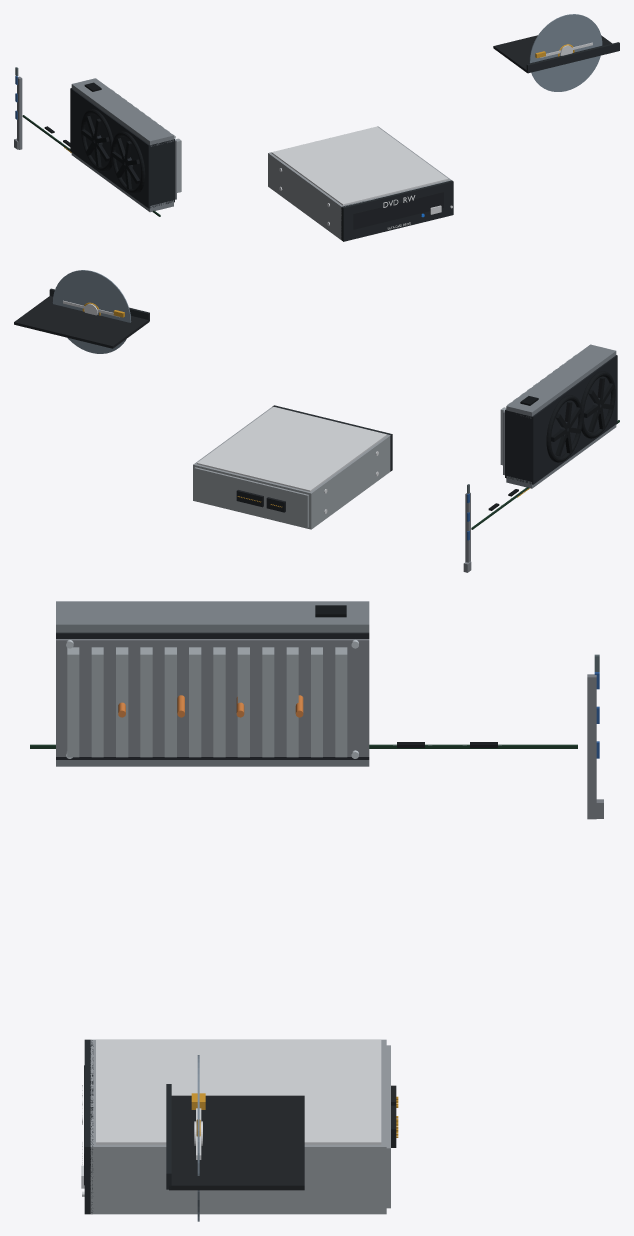
File: gpu.glb
The picture shows the model from 3 angles, top to bottom: view 1: azimuth 30°, elevation 25°; view 2: azimuth 150°, elevation 25°; view 3: azimuth 270°, elevation 25°; orthographic projection. The views are drawn at different scales.
Visible parts, largest first — view 1: OPTICAL_TopCover, GPU_Shroud_Main.001, OPTICAL_Disc, OPTICAL_Enclosure, OPTICAL_FrontBezel, GPU_Shroud_Upper.001, OPTICAL_TraySlot, OPTICAL_TrayBase, OPTICAL_TrayLip, GPU_Fan_1_Frame.001, GPU_Fan_2_Frame.001, GPU_Shroud_Lower.001 (+1 smaller); view 2: OPTICAL_TopCover, GPU_Shroud_Main.001, OPTICAL_Enclosure, OPTICAL_RearPanel, OPTICAL_TrayBase, OPTICAL_Disc, GPU_Shroud_Upper.001, GPU_Fan_2_Frame.001, GPU_Fan_1_Frame.001, GPU_Shroud_Lower.001; view 3: OPTICAL_TopCover, GPU_Backplate.001, OPTICAL_Enclosure, OPTICAL_TrayBase, GPU_Shroud_Upper.001, GPU_Shroud_Main.001, GPU_Shroud_Lower.001, GPU_IOBracket.001, GPU_Heatsink_Fin_04.001, GPU_Heatsink_Fin_07.001, GPU_Heatsink_Fin_02.001, GPU_Heatsink_Fin_05.001 (+10 smaller).
Boxes of the visible parts, x1=… form: OPTICAL_TopCover: x1=271, y1=126, x2=448, y2=205; GPU_Shroud_Main.001: x1=70, y1=88, x2=174, y2=208; OPTICAL_Disc: x1=529, y1=14, x2=602, y2=91; OPTICAL_Enclosure: x1=268, y1=126, x2=451, y2=239; OPTICAL_FrontBezel: x1=341, y1=180, x2=453, y2=241; GPU_Shroud_Upper.001: x1=71, y1=78, x2=173, y2=146; OPTICAL_TraySlot: x1=353, y1=192, x2=443, y2=229; OPTICAL_TrayBase: x1=493, y1=35, x2=612, y2=72; OPTICAL_TrayLip: x1=526, y1=42, x2=619, y2=73; GPU_Fan_1_Frame.001: x1=111, y1=131, x2=145, y2=194; GPU_Fan_2_Frame.001: x1=81, y1=109, x2=113, y2=171; GPU_Shroud_Lower.001: x1=71, y1=152, x2=173, y2=212; OPTICAL_TopCover: x1=197, y1=406, x2=386, y2=491; GPU_Shroud_Main.001: x1=505, y1=355, x2=617, y2=484; OPTICAL_Enclosure: x1=193, y1=407, x2=390, y2=529; OPTICAL_RearPanel: x1=194, y1=467, x2=308, y2=527; OPTICAL_TrayBase: x1=14, y1=296, x2=149, y2=348; OPTICAL_Disc: x1=52, y1=270, x2=131, y2=353; GPU_Shroud_Upper.001: x1=506, y1=344, x2=616, y2=418; GPU_Fan_2_Frame.001: x1=546, y1=395, x2=582, y2=462; GPU_Fan_1_Frame.001: x1=580, y1=371, x2=615, y2=438; GPU_Shroud_Lower.001: x1=506, y1=424, x2=616, y2=488; OPTICAL_TopCover: x1=96, y1=1039, x2=381, y2=1144; GPU_Backplate.001: x1=56, y1=639, x2=369, y2=756; OPTICAL_Enclosure: x1=90, y1=1039, x2=386, y2=1214; OPTICAL_TrayBase: x1=169, y1=1095, x2=304, y2=1190; GPU_Shroud_Upper.001: x1=56, y1=601, x2=369, y2=632; GPU_Shroud_Main.001: x1=56, y1=632, x2=369, y2=759; GPU_Shroud_Lower.001: x1=56, y1=760, x2=369, y2=766; GPU_IOBracket.001: x1=587, y1=674, x2=596, y2=819; GPU_Heatsink_Fin_04.001: x1=140, y1=647, x2=152, y2=757; GPU_Heatsink_Fin_07.001: x1=213, y1=647, x2=225, y2=757; GPU_Heatsink_Fin_02.001: x1=91, y1=647, x2=103, y2=757; GPU_Heatsink_Fin_05.001: x1=164, y1=647, x2=176, y2=757.
Bounding box in the file's own units: 0.6675 × 0.1983 × 0.33.
